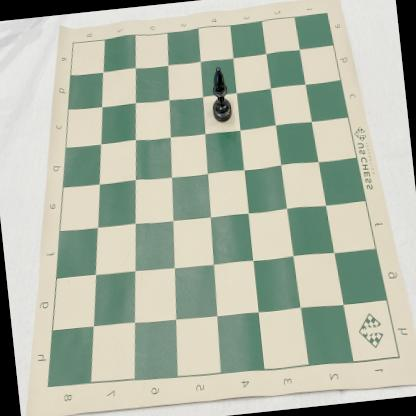black-bishop: (207, 64, 233, 123)
